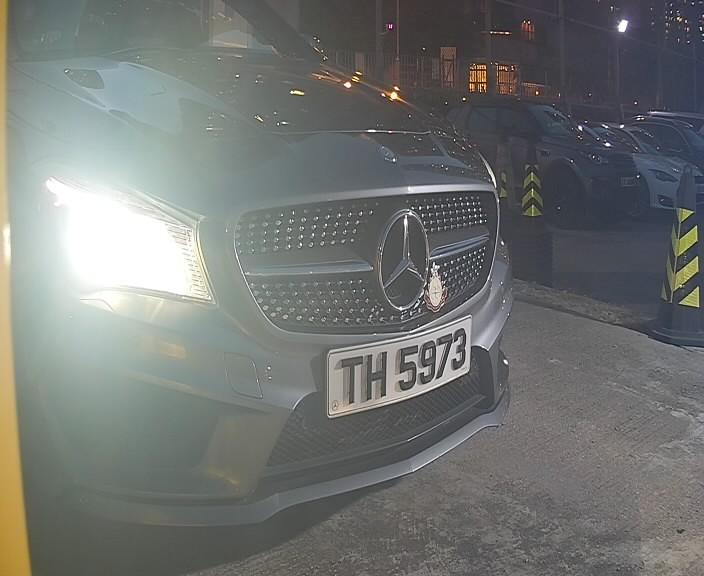License Plate: (314, 301, 485, 438)
